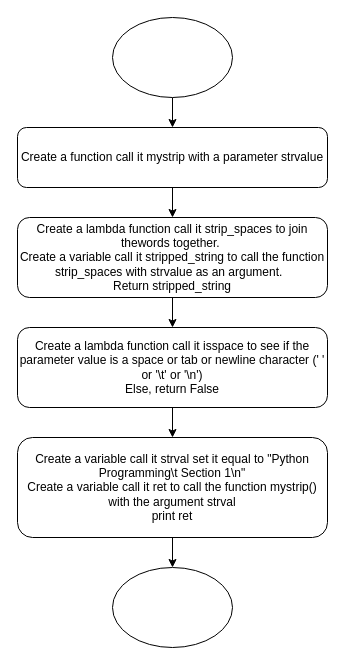
Image size: 345x665. Some labels were removed from this diagram. Here are the shapes that lost their labels. From the top down, the centre of each, then its label:
At pixel 172 57: "Start".
At pixel 172 607: "End".
